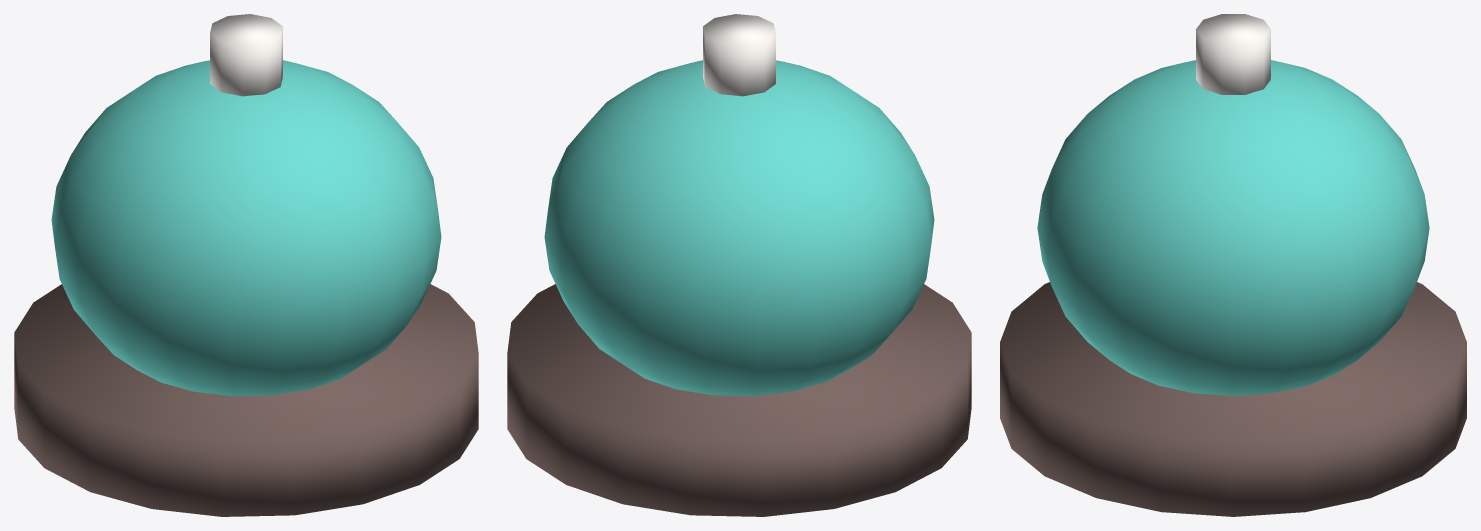
Rendered from service_bell.glb.
The picture shows the model from 3 angles, left to right: view 1: azimuth 30°, elevation 25°; view 2: azimuth 150°, elevation 25°; view 3: azimuth 270°, elevation 25°; orthographic projection.
Parts seen in each view (by area): view 1: Dome, Base, Button; view 2: Dome, Base, Button; view 3: Dome, Base, Button.
Part boxes in pixels (<box>): Dome: <box>51,60,441,396</box>; Base: <box>14,284,478,516</box>; Button: <box>210,14,282,96</box>; Dome: <box>544,60,934,396</box>; Base: <box>507,284,971,516</box>; Button: <box>703,14,775,96</box>; Dome: <box>1037,60,1429,395</box>; Base: <box>1000,282,1466,516</box>; Button: <box>1196,14,1270,94</box>.
Bounding box in the file's own units: 0.1 × 0.092 × 0.1.
